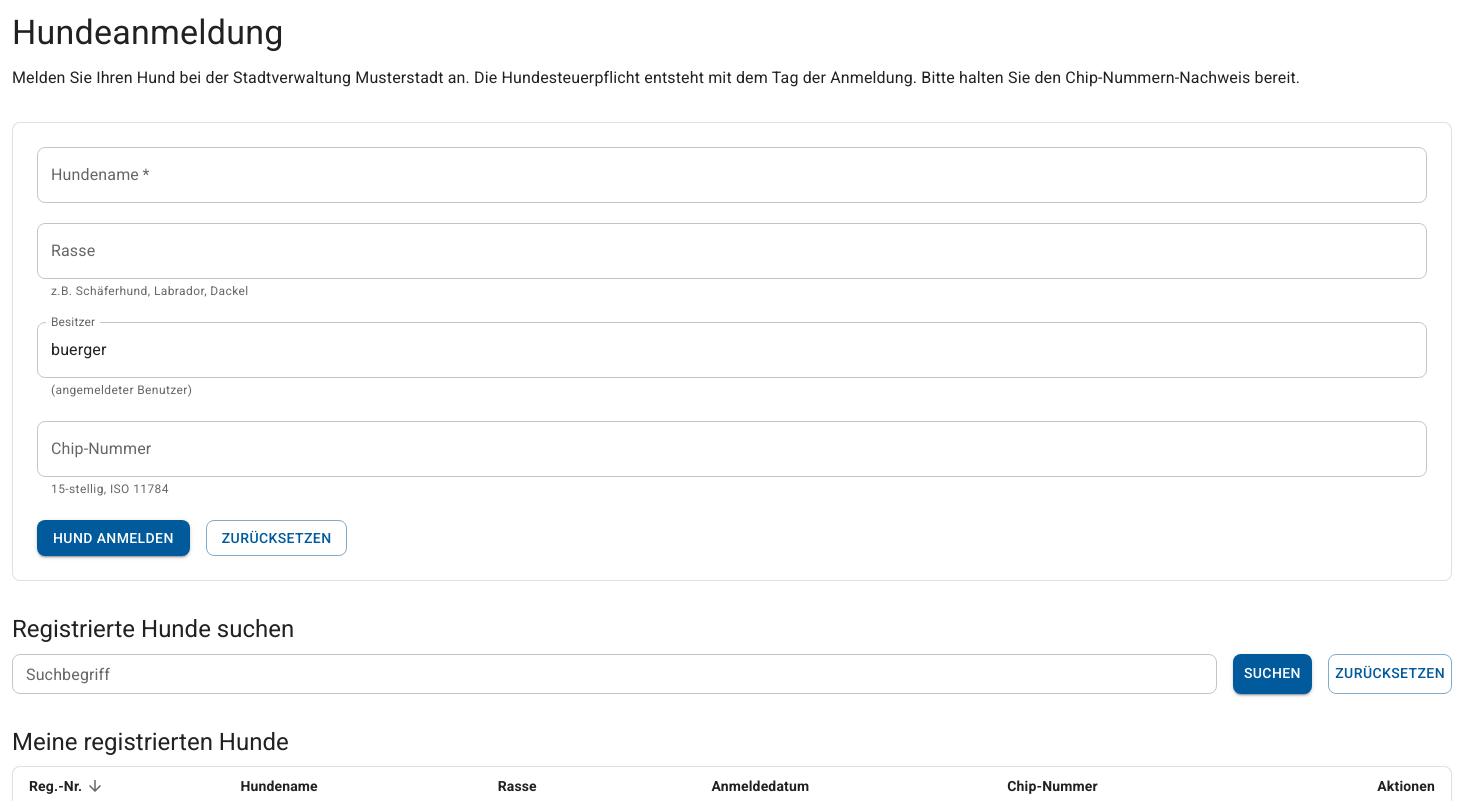
Test: DogRegistrationPage › validates name and chip number
Type "123" into the field labelled "Chip-Nummer" at [732, 449], box [37,421,1427,477]
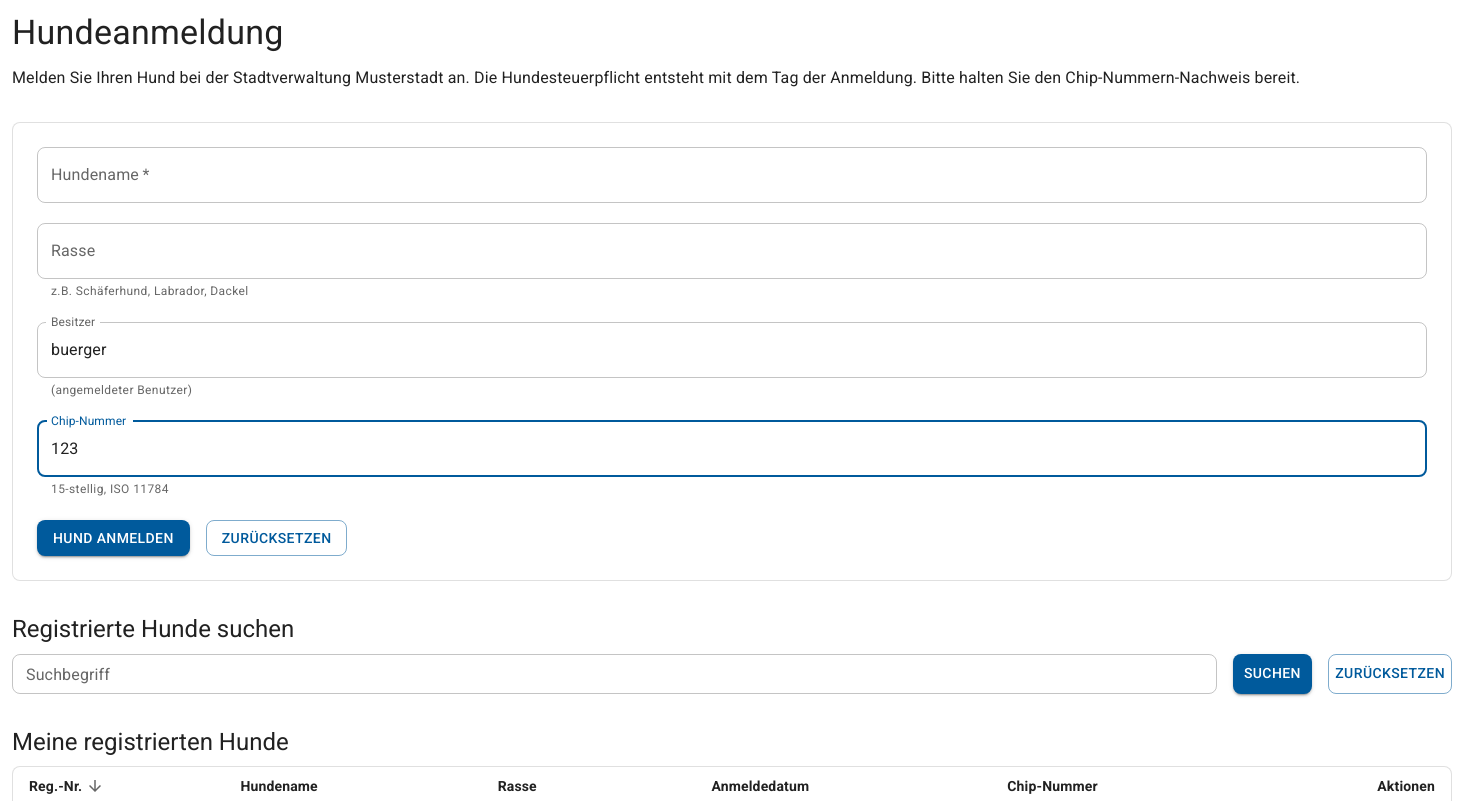
Click the button "Hund anmelden" at [113, 538], box [37,520,190,556]
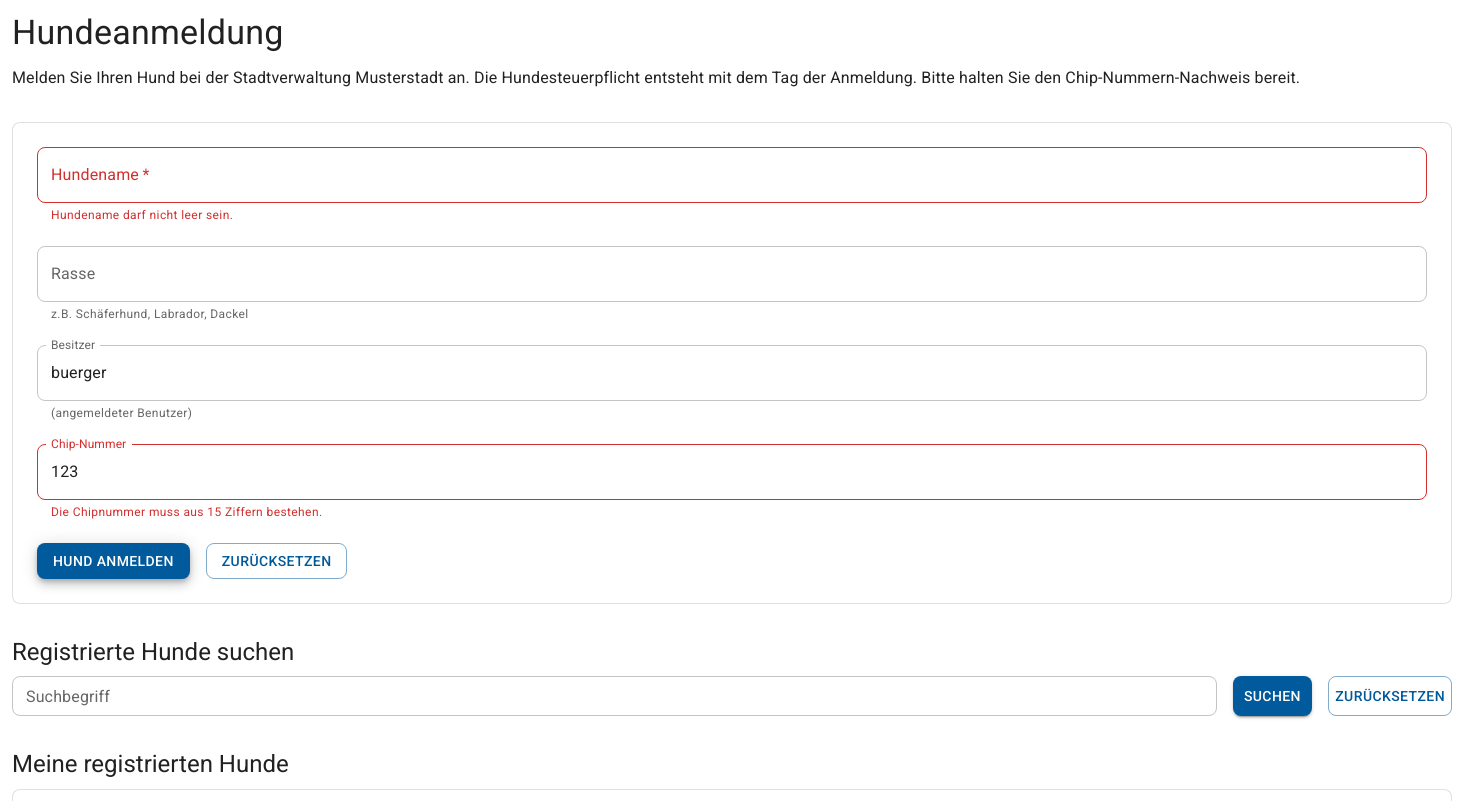
Expected: the text "Hundename darf nicht leer sein." is shown, [51,208,233,222]
Expected: the text "Die Chipnummer muss aus 15 Ziffern bestehen." is shown, [51,505,322,519]
